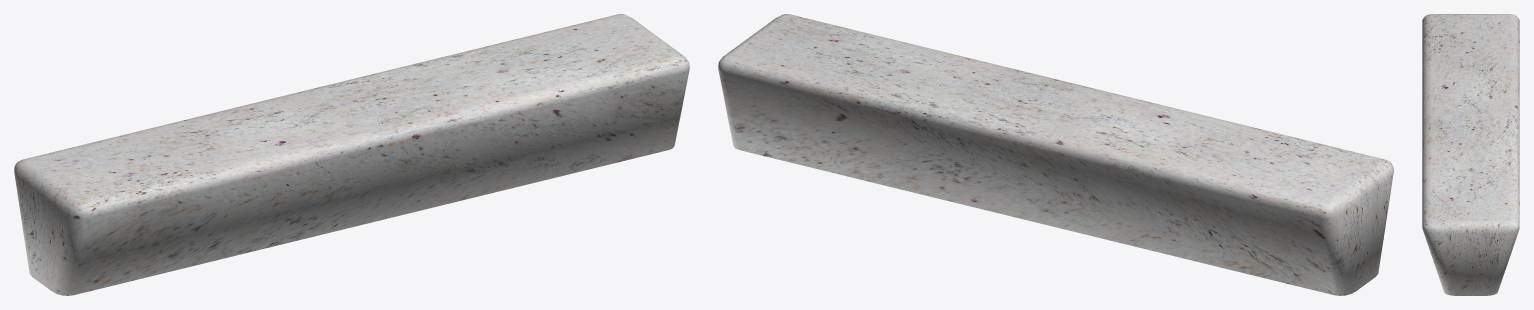
Rendered from Bench.fbx.
3 views of the same model, side by side, from view 1: azimuth 30°, elevation 25°; view 2: azimuth 150°, elevation 25°; view 3: azimuth 270°, elevation 25° (orthographic). The views are drawn at different scales.
Parts seen in each view (by area): view 1: Cube; view 2: Cube; view 3: Cube.
Boxes of the visible parts, <box> form: Cube: <box>14,14,689,295</box>; Cube: <box>718,14,1393,295</box>; Cube: <box>1422,14,1519,295</box>.
Size of the model in its own units: 840 by 130 by 161.
